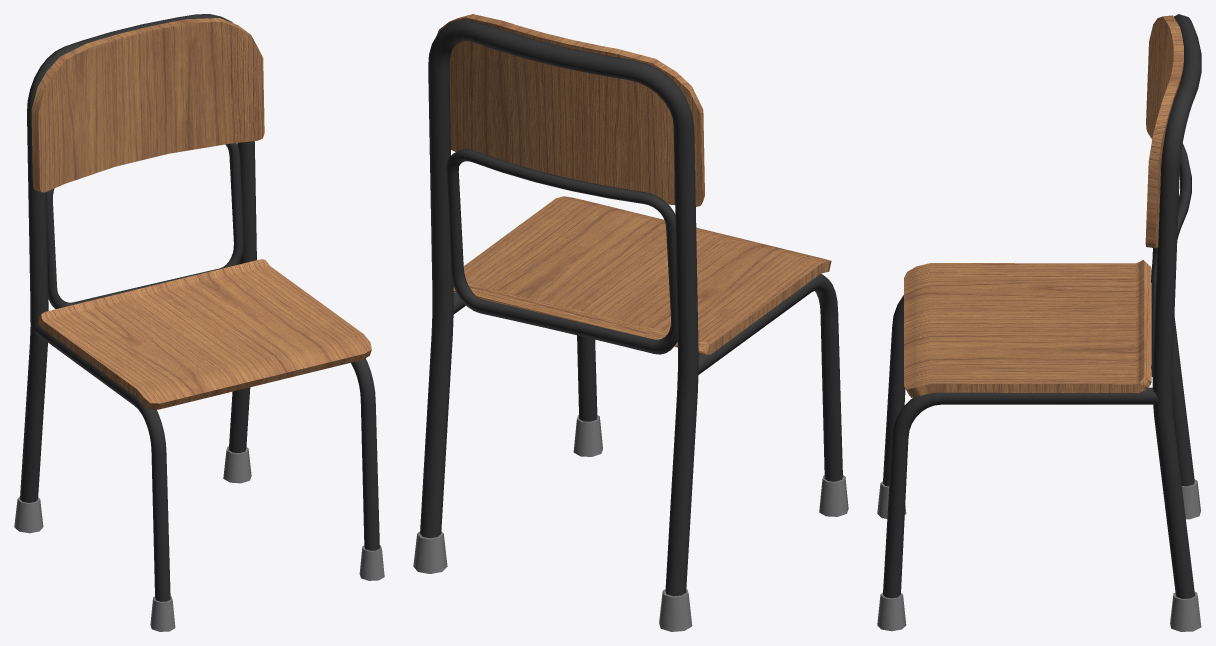
File: SM_chair_01.fbx
3 views of the same model, side by side, from view 1: azimuth 30°, elevation 25°; view 2: azimuth 150°, elevation 25°; view 3: azimuth 270°, elevation 25° (orthographic). The views are drawn at different scales.
Visible parts, largest first — view 1: chair01; view 2: chair01; view 3: chair01.
Boxes of the visible parts, x1,y1,x2,y2 form: chair01: [14, 14, 384, 631]; chair01: [413, 14, 848, 631]; chair01: [877, 14, 1201, 631].
Bounding box in the file's own units: 24.8 × 48.17 × 27.43.
Materials: 3 (1 with a texture image).
